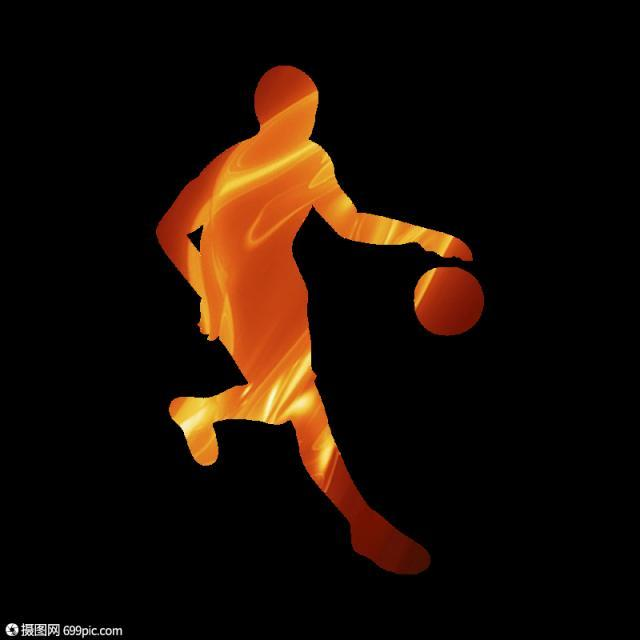rim: (412, 264, 489, 338)
